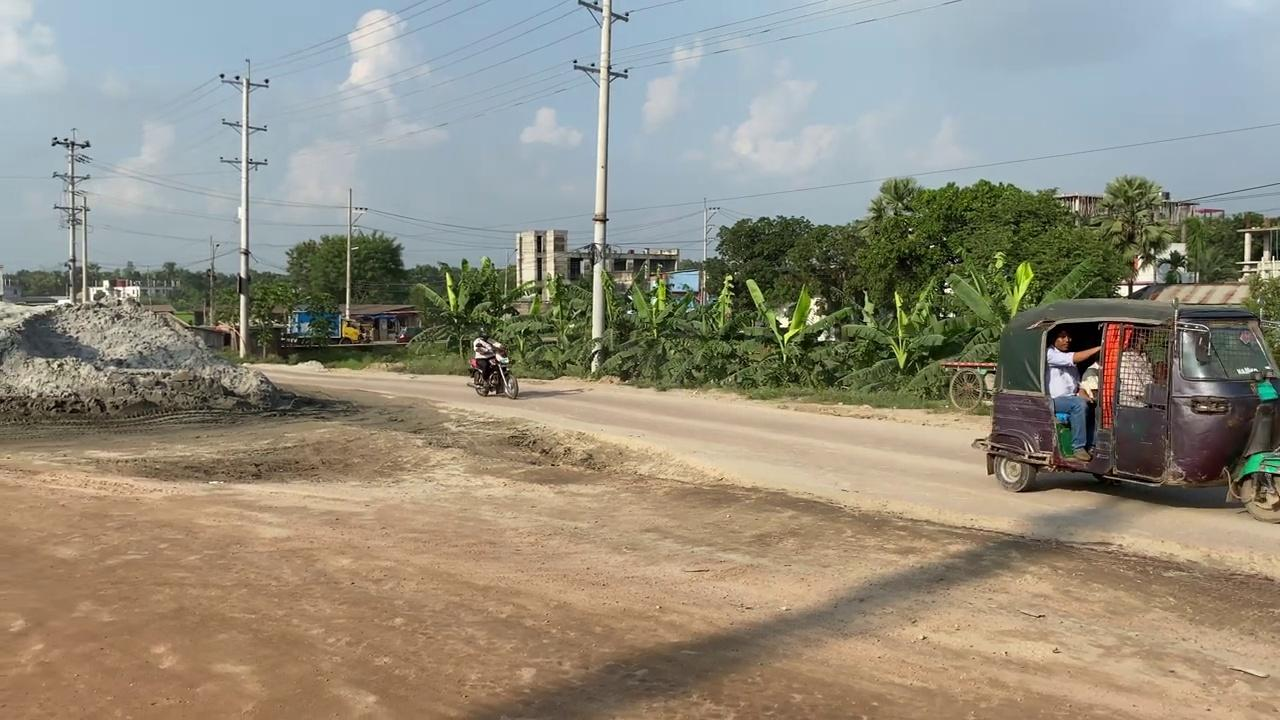Motorcycle: (462, 327, 532, 423)
Muddy road: (1, 364, 1277, 717)
Pole: (218, 58, 269, 359), (589, 0, 611, 374), (343, 187, 352, 320)
Traffic-sign: (1087, 173, 1176, 297)
Tree: (972, 295, 1278, 521), (279, 308, 366, 346)
